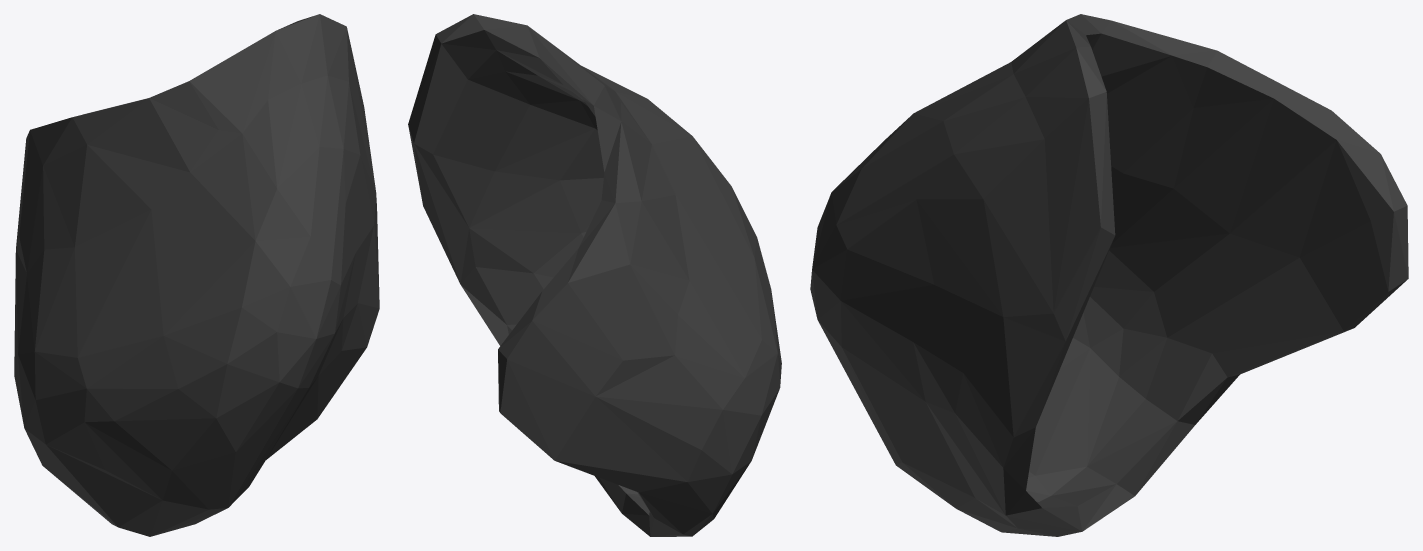
The model's file is Femur_trochanteric_fossa.glb.
3 views of the same model, side by side, from view 1: azimuth 30°, elevation 25°; view 2: azimuth 150°, elevation 25°; view 3: azimuth 270°, elevation 25° (orthographic). The views are drawn at different scales.
Visible parts, largest first — view 1: Femur_trochanteric_fossa; view 2: Femur_trochanteric_fossa; view 3: Femur_trochanteric_fossa.
Boxes of the visible parts, box(x1,y1,x2,y2) form: Femur_trochanteric_fossa: box(14, 14, 379, 536); Femur_trochanteric_fossa: box(408, 14, 781, 536); Femur_trochanteric_fossa: box(810, 14, 1408, 536).
Size of the model in its own units: 0.0188 by 0.0246 by 0.0225.
Materials: 1 (1 with a texture image).
